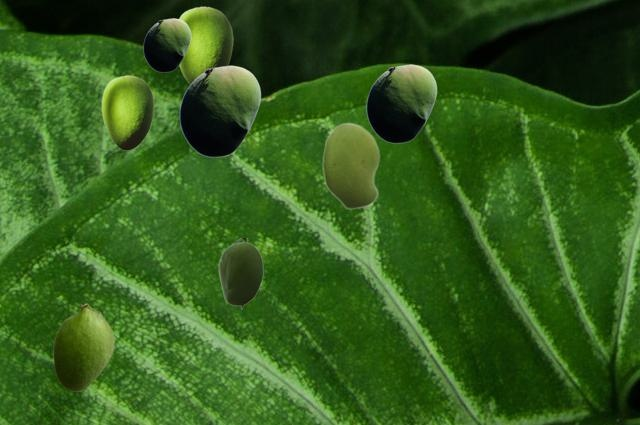green_mango: (179, 65, 260, 156), (366, 64, 436, 142), (53, 303, 113, 390), (322, 122, 379, 209), (179, 6, 232, 83), (101, 75, 153, 149), (218, 238, 262, 308), (143, 18, 190, 71)
